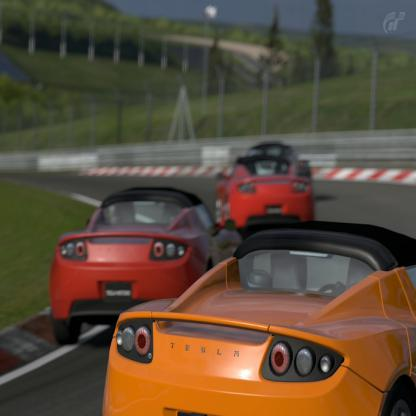Car: (49, 141, 415, 415)
